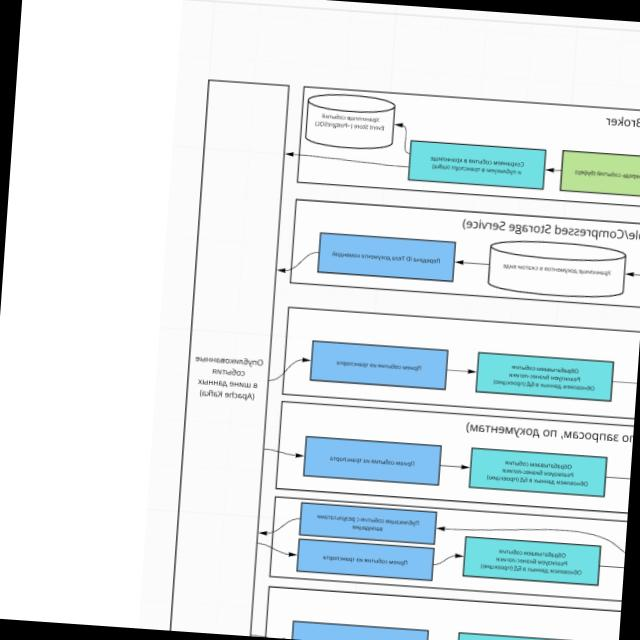arrow: (285, 149, 409, 168), (269, 352, 311, 385), (276, 247, 318, 277), (258, 513, 300, 539), (256, 539, 298, 559), (392, 122, 412, 156), (432, 549, 464, 568), (263, 446, 304, 460), (454, 257, 489, 268), (446, 365, 477, 376), (440, 461, 470, 471), (545, 166, 562, 175)
rectangle: (486, 245, 627, 302), (309, 340, 447, 391), (475, 351, 613, 402), (302, 436, 441, 486), (316, 232, 455, 282), (462, 536, 600, 586), (407, 140, 545, 190), (469, 448, 606, 497), (296, 539, 433, 582), (298, 502, 436, 544), (304, 100, 395, 152)
text_region: (190, 353, 265, 404)
